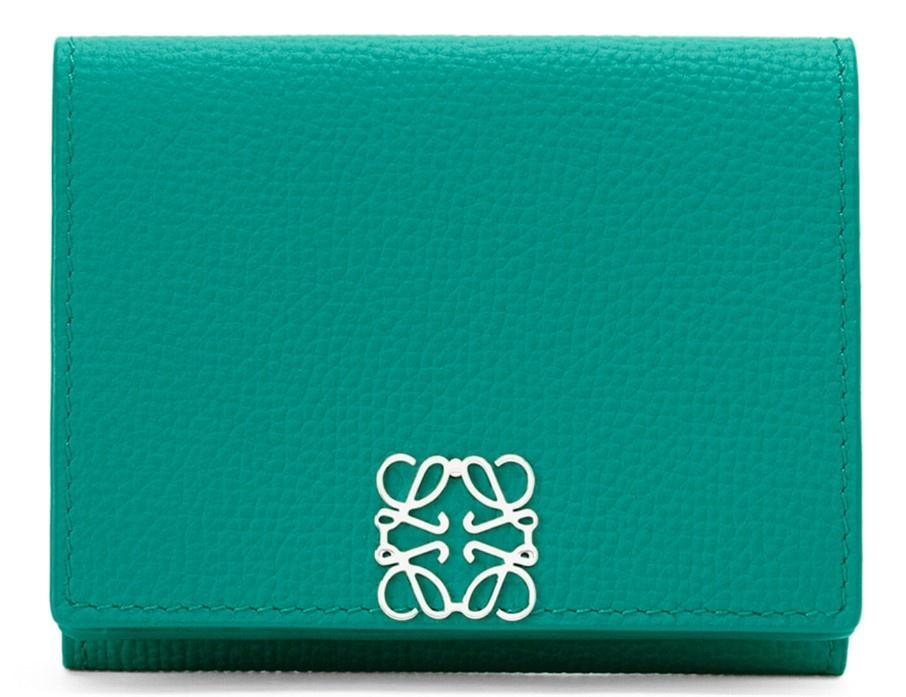LOEWE: (357, 443, 552, 619)
